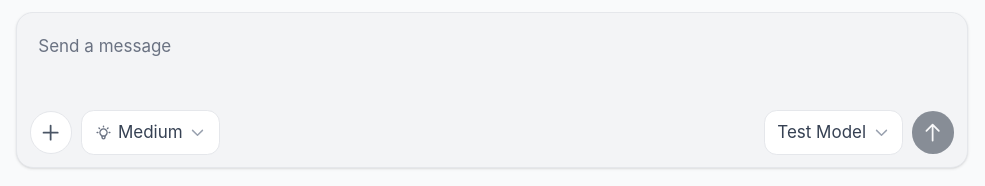
Test: MessageInput › opens the model dropdown
Click the button "Test Model": (833, 132) [764,110,903,154]
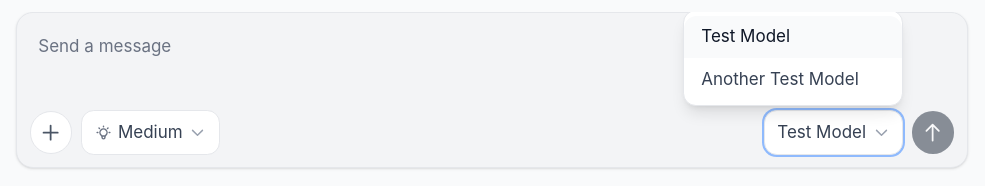
Expected: the button "Another Test Model" is shown, [684,58,902,100]
